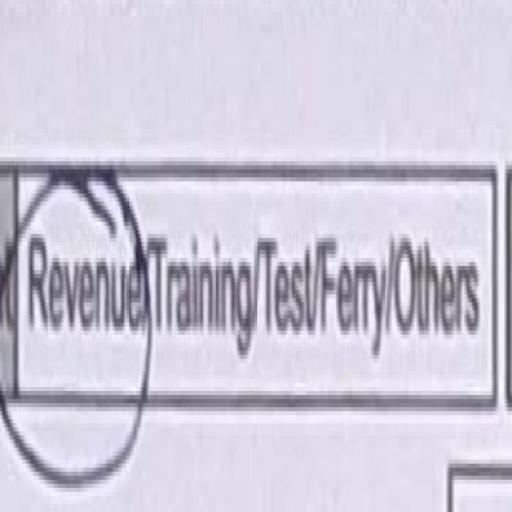check: (17, 99, 144, 512)
